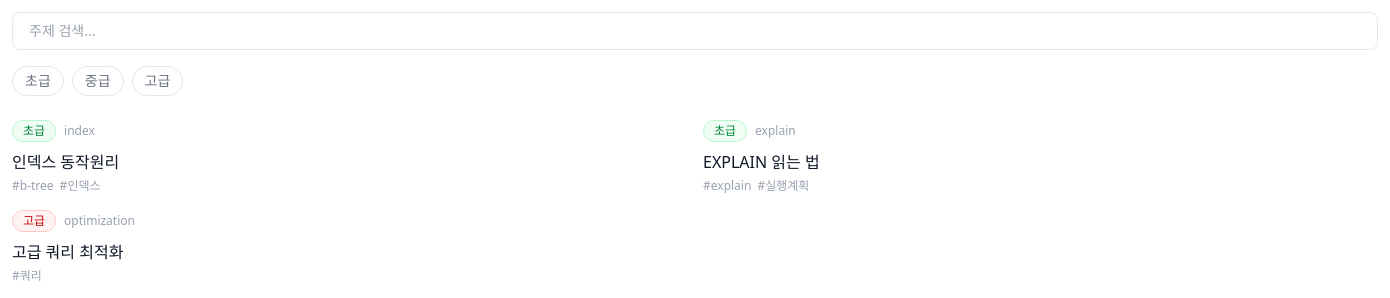
Test: ContentList › 난이도 필터 클릭 시 해당 난이도 콘텐츠만 표시한다
Click the button "고급". click: (157, 81)
box: [132,66,183,96]
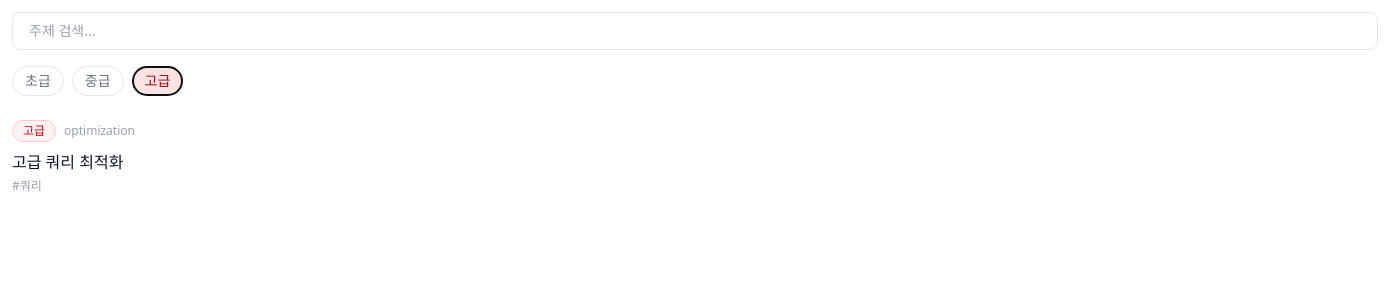
Expected: the heading "고급 쿼리 최적화" is shown, [12,151,123,173]
Expected: the link "인덱스 동작원리" is gone
Expected: the link "EXPLAIN 읽는 법" is gone
